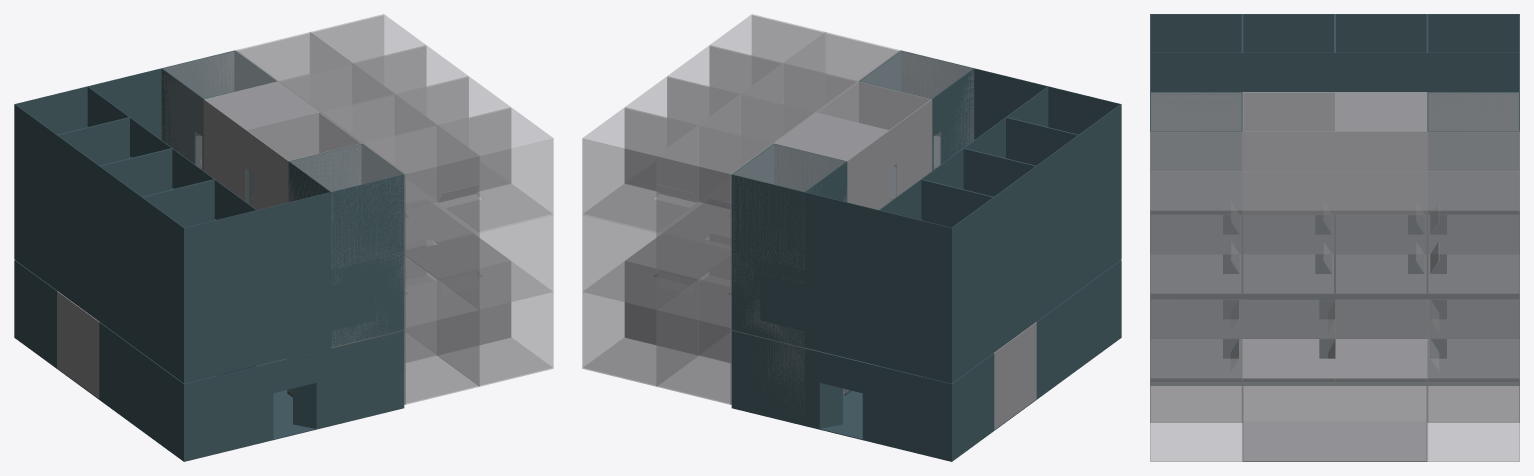
File: 第十五组 2.glb
3 renders of one model, left to right at view 1: azimuth 30°, elevation 25°; view 2: azimuth 150°, elevation 25°; view 3: azimuth 270°, elevation 25°, orthographic. The views are drawn at different scales.
Bounding box in the file's own units: 0.0251 × 0.0152 × 0.02.
